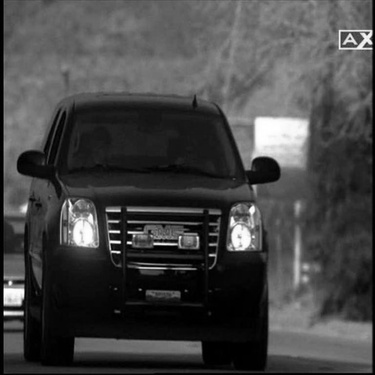car: (12, 63, 293, 361)
